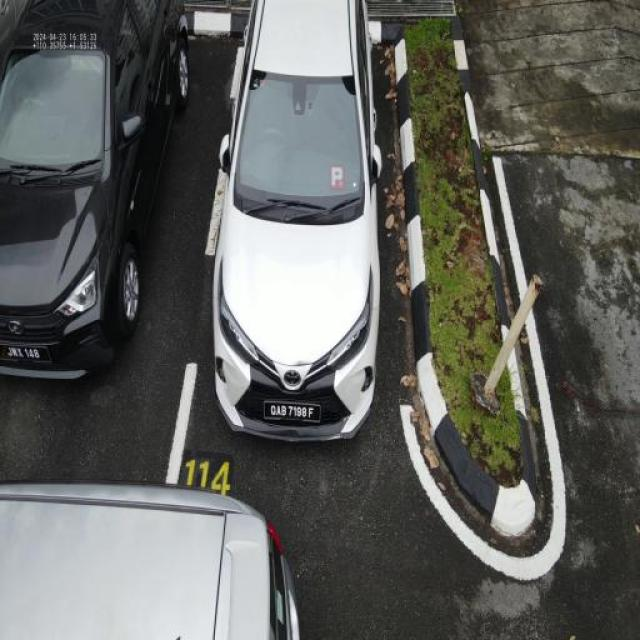Legalparking: (0, 8, 450, 462)
illegalparking: (0, 459, 410, 640)
